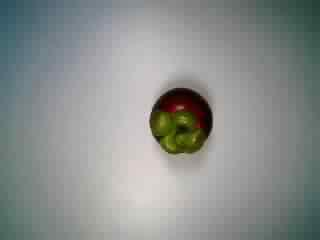mangosteen: (140, 81, 221, 156)
